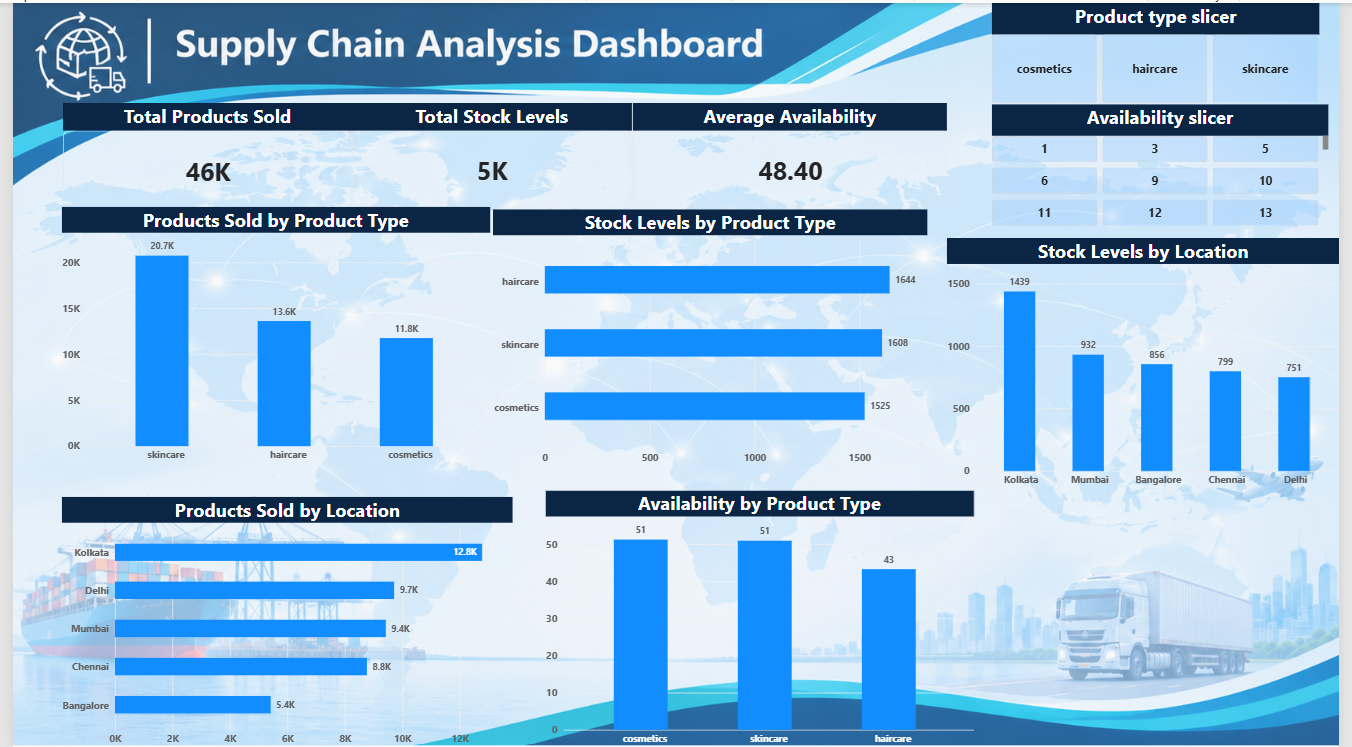

The dashboard page shown, as its layout file describes it:
{"tool":"powerbi","page":{"name":"2.Product & Inventory Analysis","canvas":[1920,1080],"ordinal":1},"visuals":[{"type":"cardVisual","title":"Total Products Sold","fields":{"Data":["supply_chain_data.Total Products Sold"]},"box":[72.6,145.1,418.7,152.6],"z":0},{"type":"cardVisual","title":"Total Stock Levels","fields":{"Data":["Sum(supply_chain_data.Stock levels)"]},"box":[491.3,145.1,405.7,150.7],"z":1},{"type":"cardVisual","title":"Average Availability","fields":{"Data":["Avg(supply_chain_data.Availability)"]},"box":[896.9,145.1,454,150.7],"z":2},{"type":"clusteredColumnChart","title":"Products Sold by Product Type","fields":{"Category":["supply_chain_data.Product type"],"Y":["Sum(supply_chain_data.Number of products sold)"]},"box":[70.7,295.9,619.7,374],"z":3},{"type":"clusteredBarChart","title":"Stock Levels by Product Type","fields":{"Category":["supply_chain_data.Product type"],"Y":["Sum(supply_chain_data.Stock levels)"]},"box":[694.1,297.7,629,374],"z":4},{"type":"clusteredColumnChart","title":"\tAvailability by Product Type","fields":{"Category":["supply_chain_data.Product type"],"Y":["supply_chain_data.Average Availability"]},"box":[770.4,705.3,619.7,374],"z":5},{"type":"clusteredBarChart","title":"Products Sold by Location","fields":{"Category":["supply_chain_data.Location"],"Y":["Sum(supply_chain_data.Number of products sold)"]},"box":[70.7,714.6,653.2,364.7],"z":6},{"type":"clusteredColumnChart","title":"Stock Levels by Location","fields":{"Category":["supply_chain_data.Location"],"Y":["Sum(supply_chain_data.Stock levels)"]},"box":[1351,340.5,569.4,364.7],"z":7},{"type":"advancedSlicerVisual","title":"Product type slicer","fields":{"Values":["supply_chain_data.Product type"]},"box":[1416.1,0,474.5,145.1],"z":8},{"type":"advancedSlicerVisual","title":"Availability slicer","fields":{"Values":["supply_chain_data.Availability"]},"box":[1416.1,147,487.5,176.8],"z":9}]}

Visuals, with their boxes in screenshot pixels (x1, y1, x2, y2), scaled from the page's 1920x1080 canvas onto the 1352x747 screenshot:
"Total Products Sold" cardVisual: <region>51, 100, 346, 206</region>
"Total Stock Levels" cardVisual: <region>346, 100, 632, 205</region>
"Average Availability" cardVisual: <region>632, 100, 951, 205</region>
"Products Sold by Product Type" clusteredColumnChart: <region>50, 205, 486, 463</region>
"Stock Levels by Product Type" clusteredBarChart: <region>489, 206, 932, 465</region>
"	Availability by Product Type" clusteredColumnChart: <region>542, 488, 979, 746</region>
"Products Sold by Location" clusteredBarChart: <region>50, 494, 510, 746</region>
"Stock Levels by Location" clusteredColumnChart: <region>951, 236, 1351, 488</region>
"Product type slicer" advancedSlicerVisual: <region>997, 0, 1331, 100</region>
"Availability slicer" advancedSlicerVisual: <region>997, 102, 1340, 224</region>
